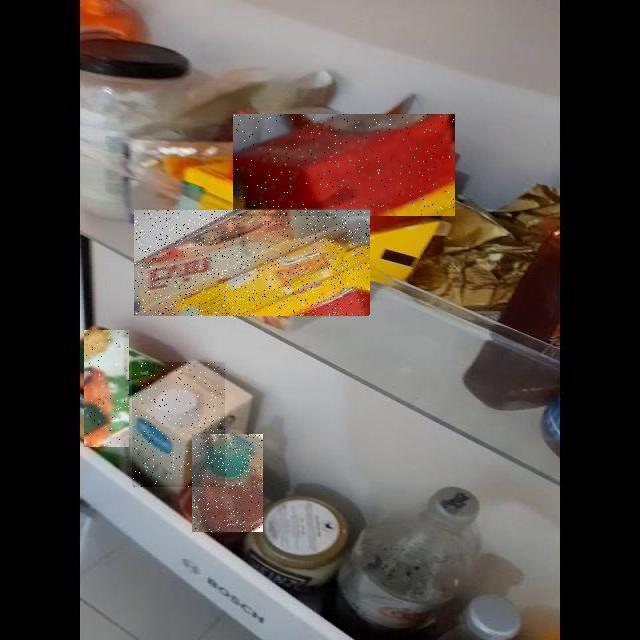Butter: (134, 210, 370, 316)
Cheese: (233, 114, 455, 216)
Juice: (84, 330, 129, 447)
Milk: (132, 362, 225, 487)
Sauce: (192, 434, 263, 532)
